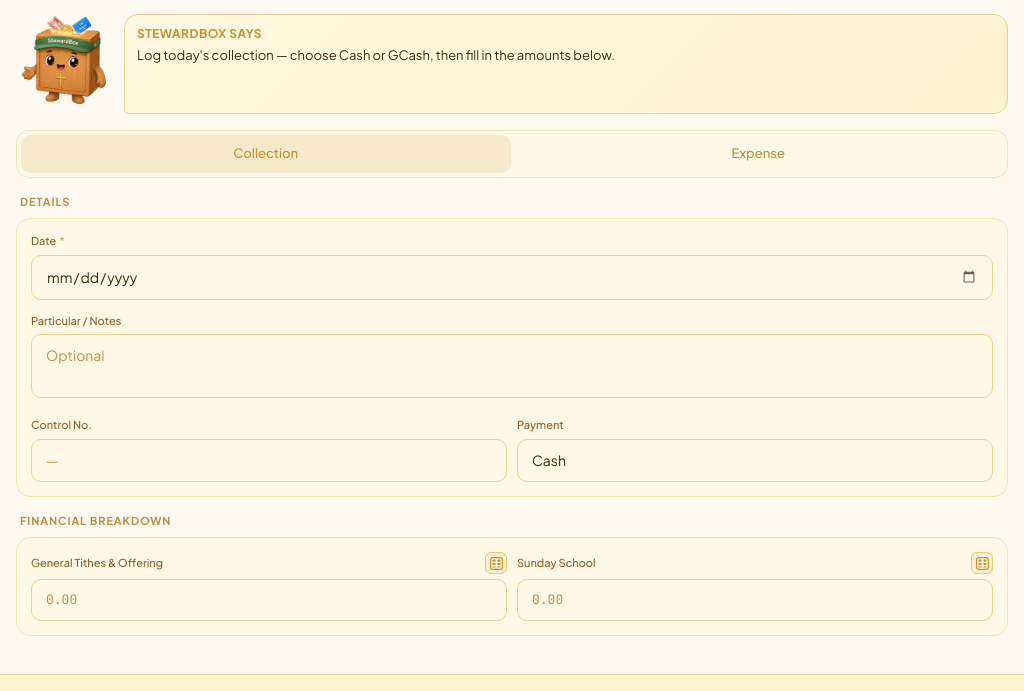
Test: GCash leaves only General Tithes & Offering enabled
Expected: the field labelled "General Tithes & Offering" is shown, [31, 579, 507, 620]
Select "GCash" in the dropdown labelled "Payment" at [755, 460], box [517, 438, 993, 482]
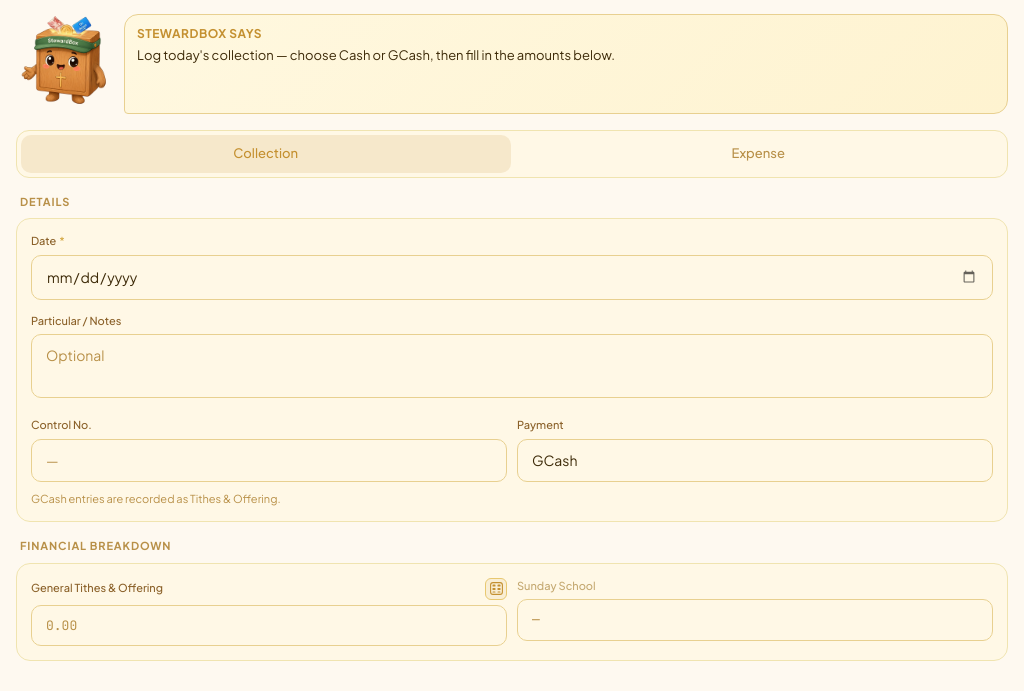
Expected: the field labelled "General Tithes & Offering" is enabled, [31, 604, 507, 646]
Expected: the field labelled "Sunday School" is disabled, [517, 599, 993, 640]
